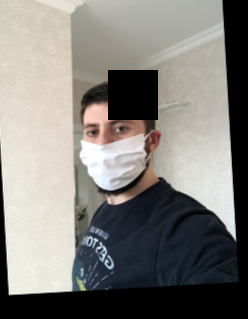with_mask: (78, 109, 146, 197)
